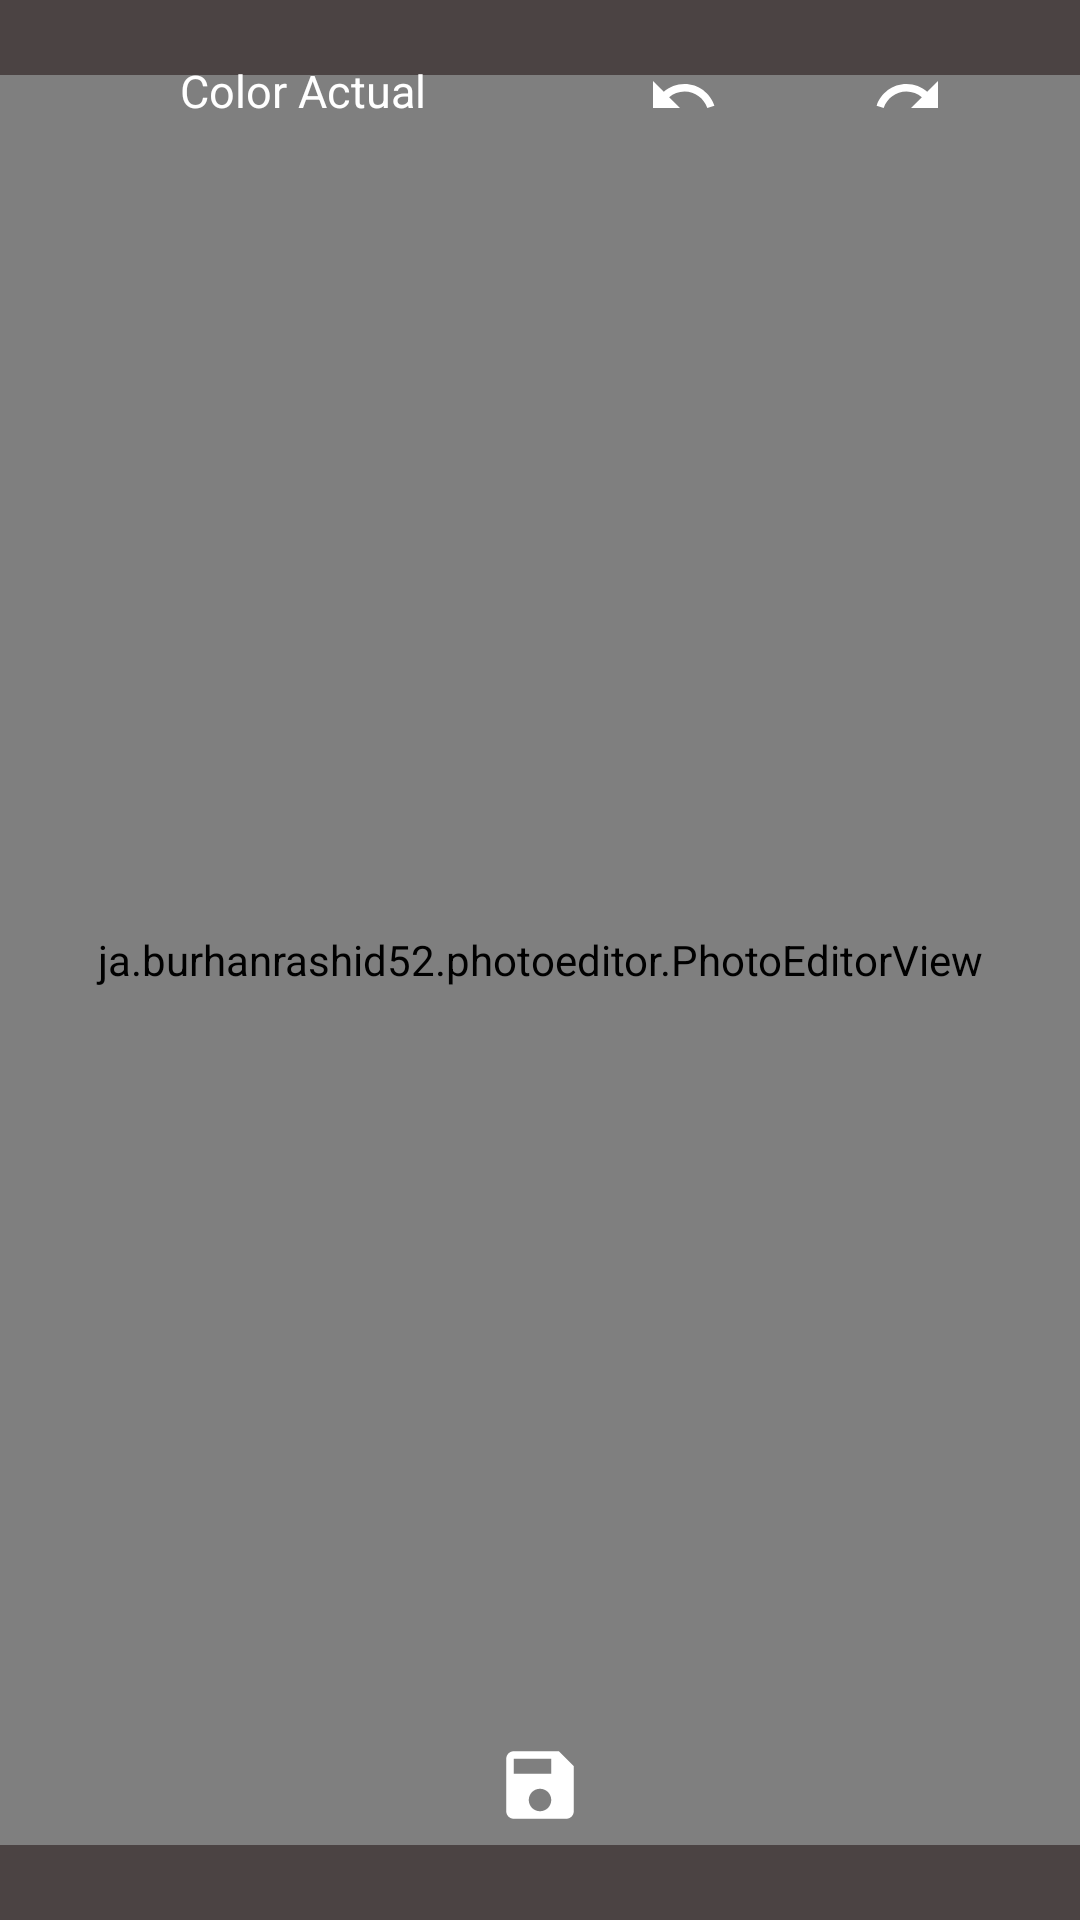

Icons on this 1080px×1920px Android screen, each with the point to tap as point (x, y):
save: point (540, 1785)
